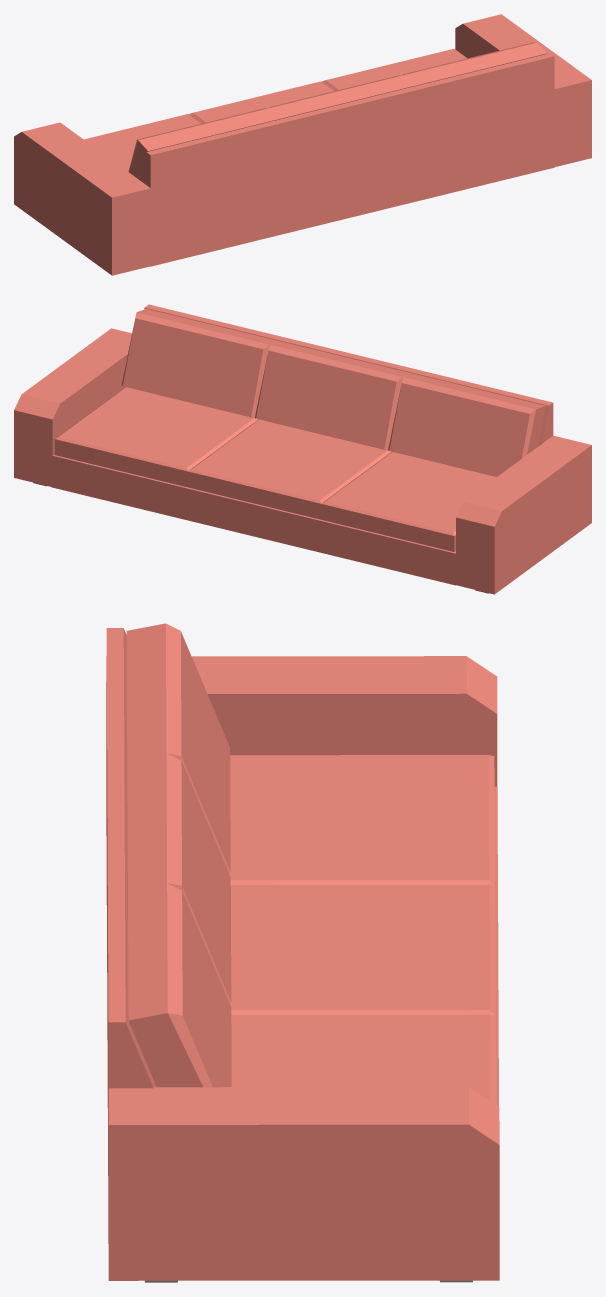
The model's file is couch03.gltf.
The picture shows the model from 3 angles, top to bottom: view 1: azimuth 30°, elevation 25°; view 2: azimuth 150°, elevation 25°; view 3: azimuth 270°, elevation 25°; orthographic projection. The views are drawn at different scales.
Visible parts, largest first — view 1: couch_Cube.029; view 2: couch_Cube.029; view 3: couch_Cube.029.
Part boxes in pixels (box(x1,y1,x2,y2)): couch_Cube.029: box(14, 14, 591, 275); couch_Cube.029: box(14, 304, 591, 594); couch_Cube.029: box(106, 623, 499, 1282).
Size of the model in its own units: 2.35 by 0.5681 by 0.8328.
